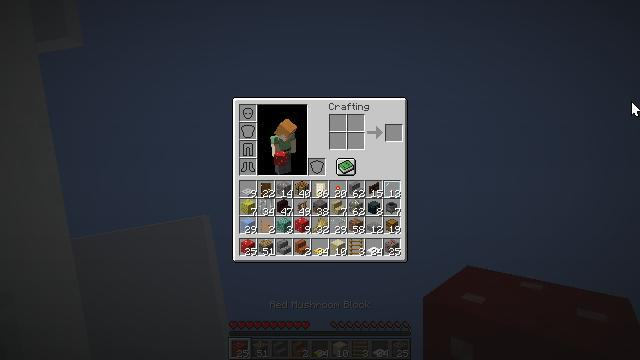cursor: (631, 101, 640, 117)
